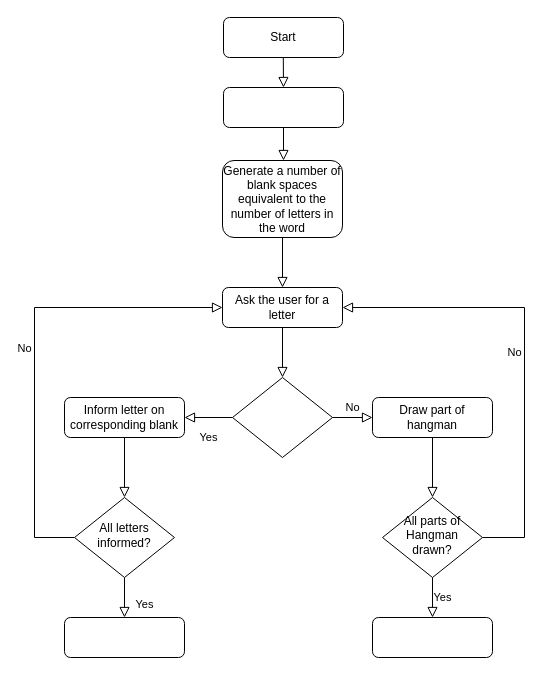
Image size: 552x675. Some labels were removed from this diagram. The shapes that lost their labels are listed below. From the top down, each one's box as (x1, y1, x2, y2) in pixels, then its label:
(222, 86, 344, 128): Generate a random word
(232, 376, 332, 458): Letter in word?
(64, 616, 184, 658): Game won
(372, 616, 492, 658): Game lost
